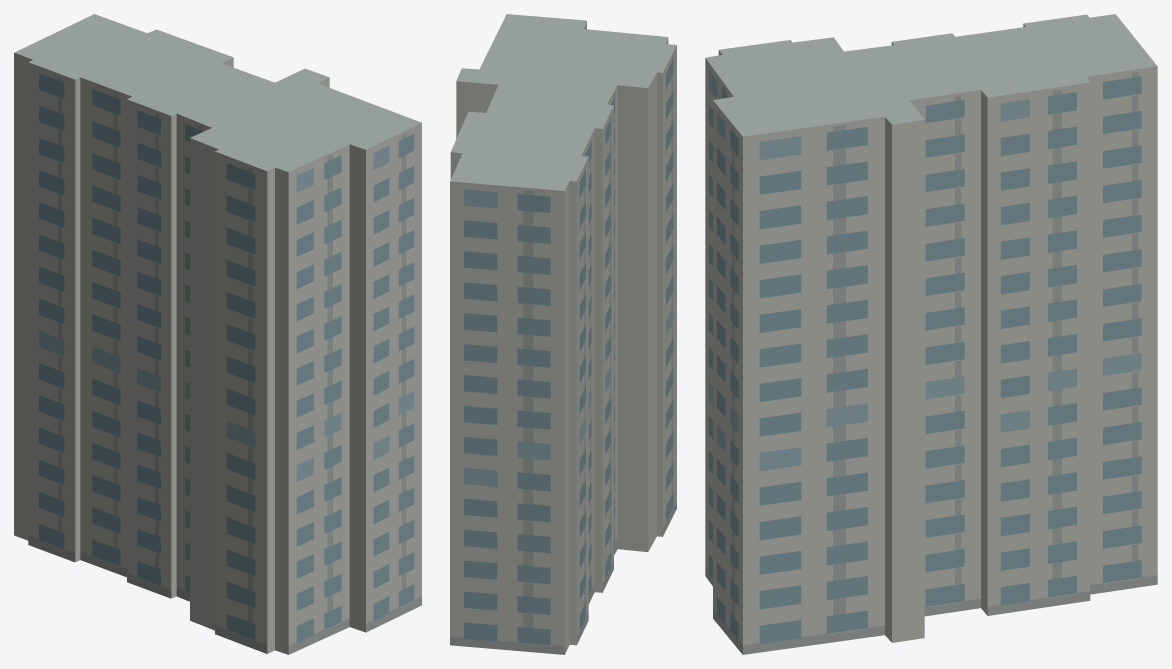
Rendered from residential-80025893-f4ca-4277-ba68-5077b033fea8.glb.
3 renders of one model, left to right at view 1: azimuth 30°, elevation 25°; view 2: azimuth 150°, elevation 25°; view 3: azimuth 270°, elevation 25°, orthographic. The views are drawn at different scales.
Parts seen in each view (by area): view 1: residential-80025893-f4ca-4277-ba68-5077b033fea8.tmp; view 2: residential-80025893-f4ca-4277-ba68-5077b033fea8.tmp; view 3: residential-80025893-f4ca-4277-ba68-5077b033fea8.tmp.
Part boxes in pixels (bbox=[...]): residential-80025893-f4ca-4277-ba68-5077b033fea8.tmp: bbox=[14, 14, 421, 654]; residential-80025893-f4ca-4277-ba68-5077b033fea8.tmp: bbox=[450, 14, 676, 654]; residential-80025893-f4ca-4277-ba68-5077b033fea8.tmp: bbox=[705, 14, 1157, 654].
Size of the model in its own units: 22.85 by 45 by 35.6.
